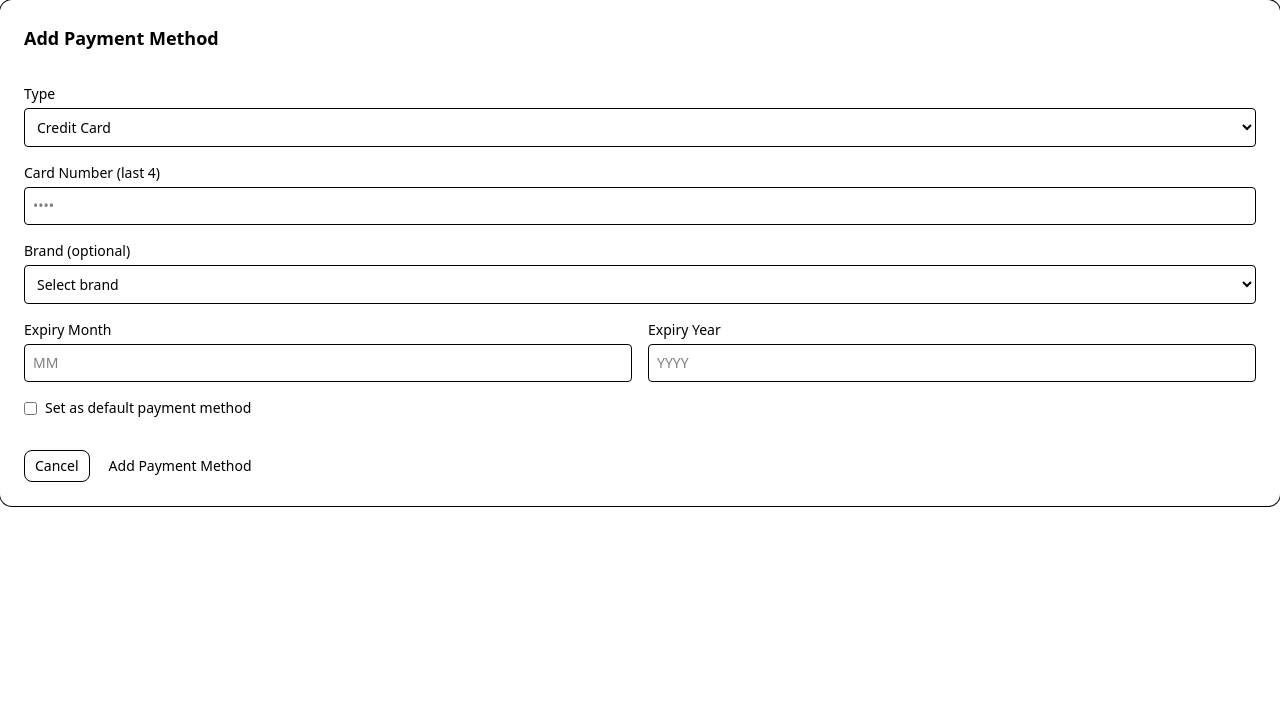
Test: <AddPaymentMethod /> › disables buttons while loading
The width and height of the screenshot is (1280, 720).
Step 1. Type "4242" into the field with placeholder "••••" → (640, 206), box 24,187 -> 1256,225
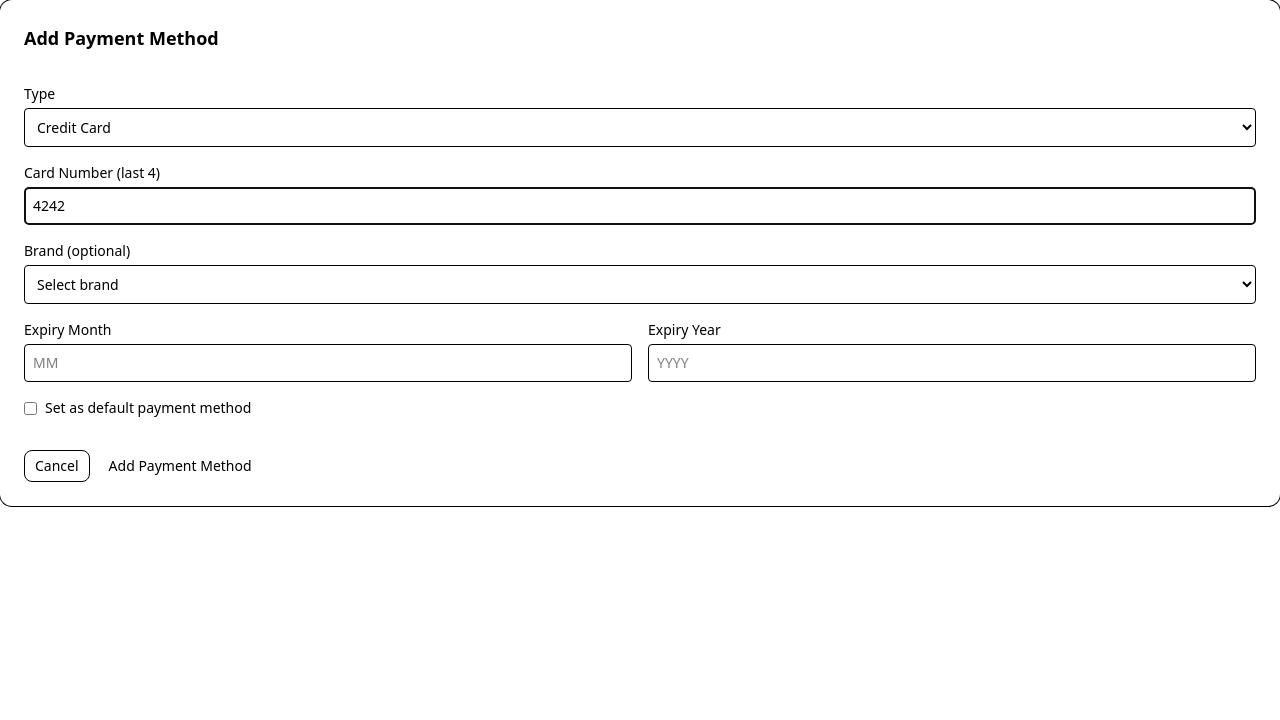
Step 2. Type "12" into the number field with placeholder "MM" → (328, 363), box 24,344 -> 632,382
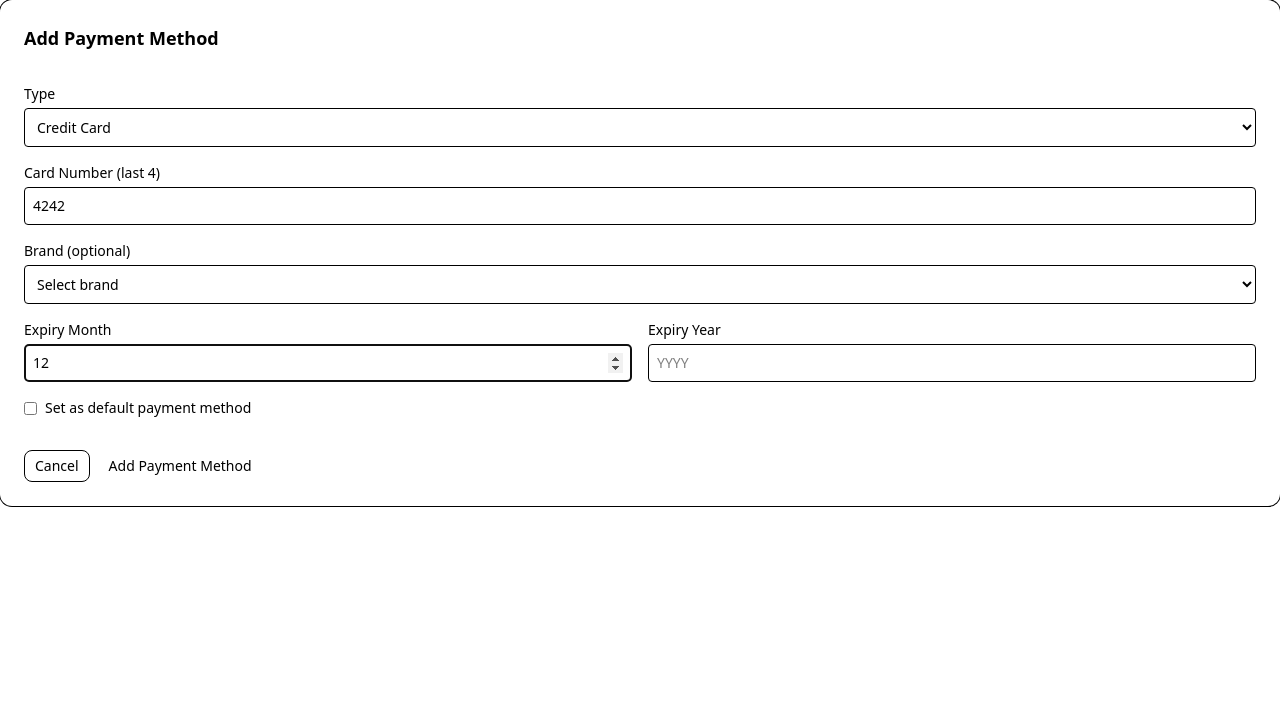
Step 3. Type "2026" into the number field with placeholder "YYYY" → (952, 363), box 648,344 -> 1256,382
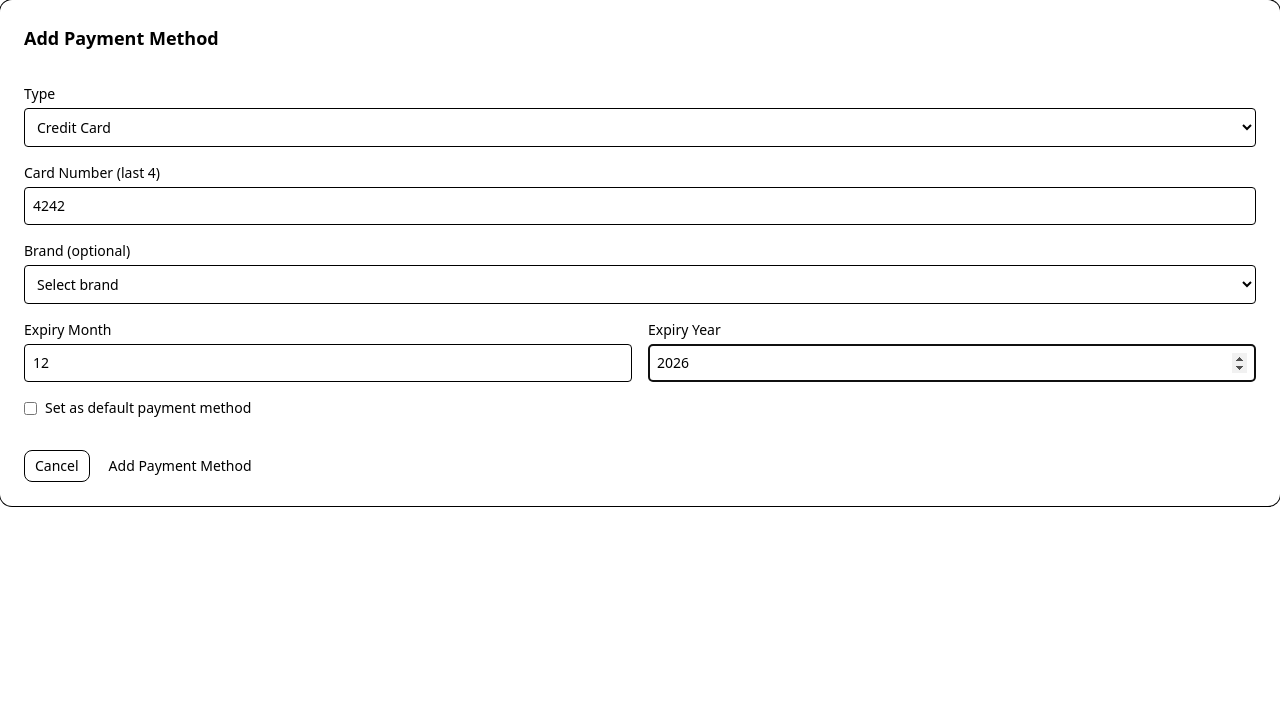
Step 4. Click the button "Add Payment Method" → (180, 466), box 98,450 -> 263,482
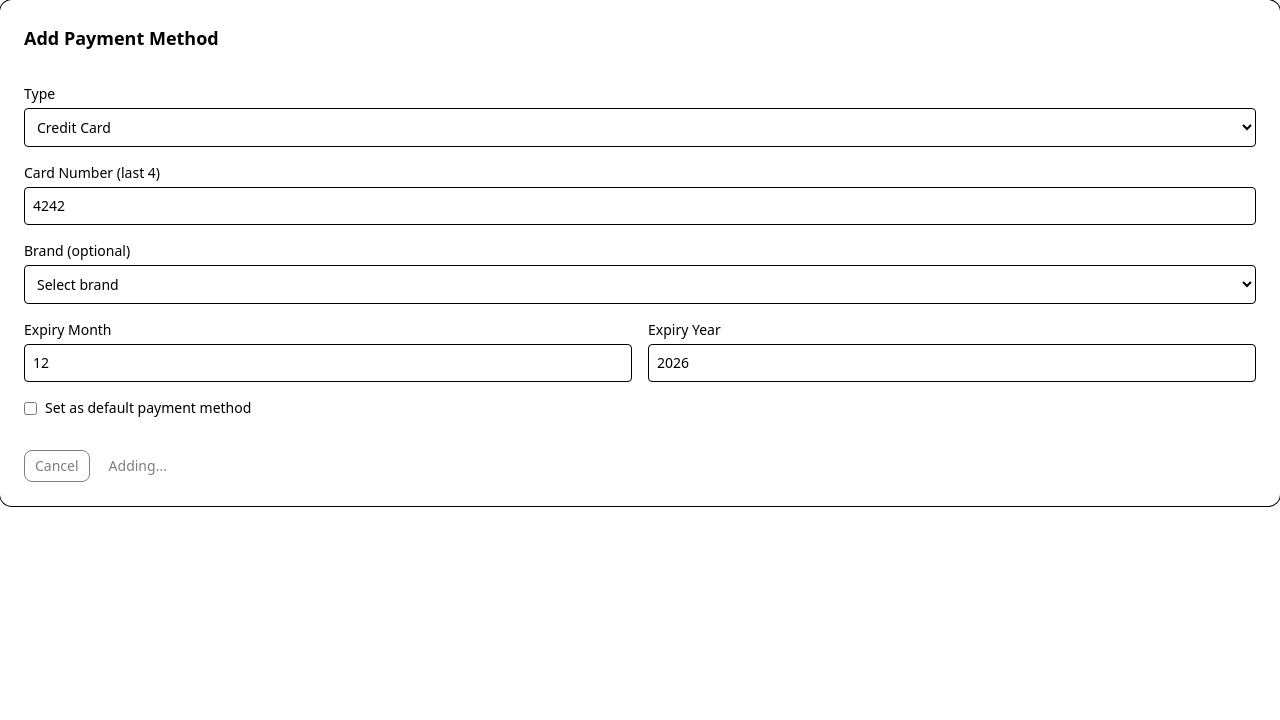
Expected: the button "Cancel" is disabled, 24,450 -> 90,482
